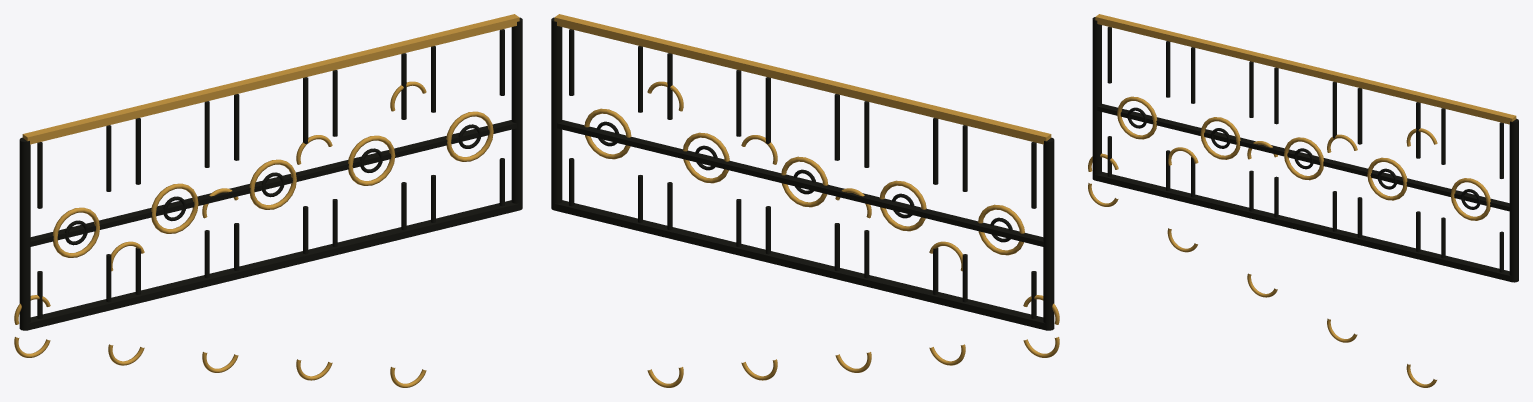
File: balcony-railing.glb
3 renders of one model, left to right at view 1: azimuth 30°, elevation 25°; view 2: azimuth 150°, elevation 25°; view 3: azimuth 330°, elevation 25°, orthographic. The views are drawn at different scales.
Bounding box in the file's own units: 3.09 × 2.01 × 0.064.
